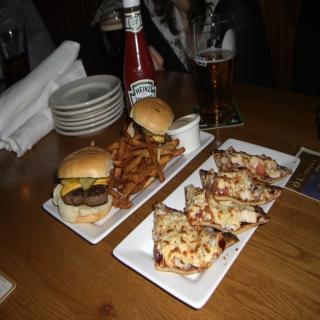Cheese: (154, 208, 240, 274), (60, 177, 110, 196), (152, 134, 164, 141)
French fries: (102, 122, 184, 208)
Hamburger: (54, 144, 114, 223), (127, 98, 175, 136)
Pizza: (155, 202, 238, 276), (210, 144, 296, 185), (184, 183, 269, 224), (200, 168, 283, 207)
